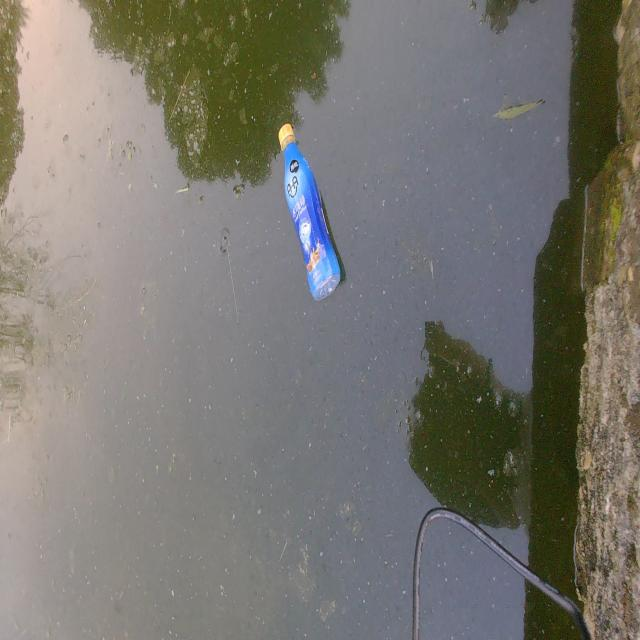Bottle: (274, 118, 343, 301)
